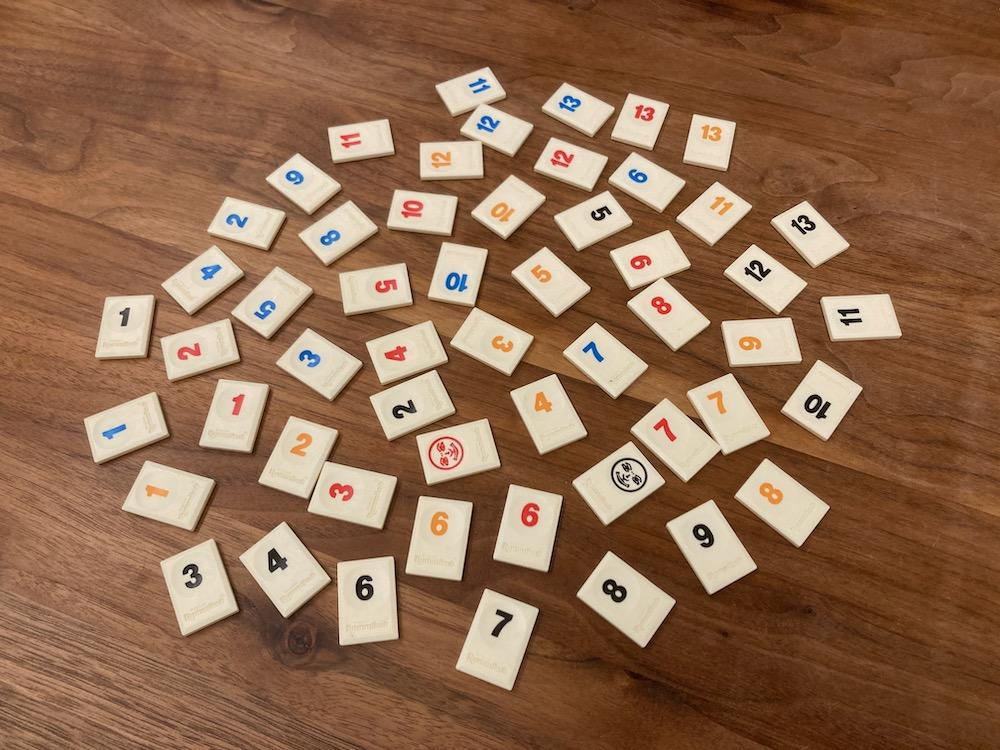black_1: (96, 296, 154, 359)
black_10: (781, 359, 861, 441)
black_11: (820, 295, 902, 342)
black_12: (725, 244, 807, 314)
black_13: (771, 201, 850, 268)
black_2: (370, 369, 455, 439)
black_3: (160, 539, 238, 635)
black_4: (242, 521, 330, 617)
black_5: (555, 191, 633, 250)
black_6: (339, 557, 397, 646)
black_7: (457, 590, 539, 689)
black_8: (576, 551, 676, 646)
black_9: (666, 500, 756, 594)
blue_1: (84, 393, 170, 463)
blue_10: (428, 242, 488, 307)
blue_11: (437, 66, 506, 117)
blue_12: (461, 104, 533, 156)
blue_13: (545, 82, 615, 137)
blue_2: (207, 197, 285, 250)
blue_3: (277, 330, 361, 400)
blue_4: (162, 246, 244, 314)
blue_5: (232, 268, 312, 338)
blue_6: (609, 152, 686, 213)
blue_7: (564, 322, 648, 398)
blue_8: (299, 201, 379, 266)
blue_9: (266, 154, 340, 215)
joker: (574, 441, 664, 525), (416, 420, 500, 484)
orange_1: (123, 462, 215, 531)
orange_10: (471, 176, 545, 240)
orange_11: (676, 182, 752, 246)
orange_12: (421, 141, 484, 180)
orange_13: (686, 115, 736, 172)
orange_2: (258, 416, 338, 498)
orange_3: (453, 307, 533, 375)
orange_4: (510, 375, 588, 455)
orange_5: (512, 248, 590, 316)
orange_6: (406, 496, 473, 580)
orange_7: (688, 373, 770, 455)
orange_8: (734, 459, 830, 547)
orange_9: (722, 318, 801, 367)
red_1: (199, 379, 270, 453)
red_10: (389, 189, 457, 236)
red_11: (329, 119, 395, 164)
red_12: (535, 137, 607, 191)
red_13: (613, 94, 670, 150)
red_2: (160, 318, 240, 381)
red_3: (309, 461, 396, 529)
red_4: (367, 320, 447, 385)
red_5: (341, 264, 412, 316)
red_6: (495, 484, 562, 572)
red_7: (631, 398, 721, 482)
red_8: (627, 279, 709, 350)
red_9: (611, 230, 691, 289)
